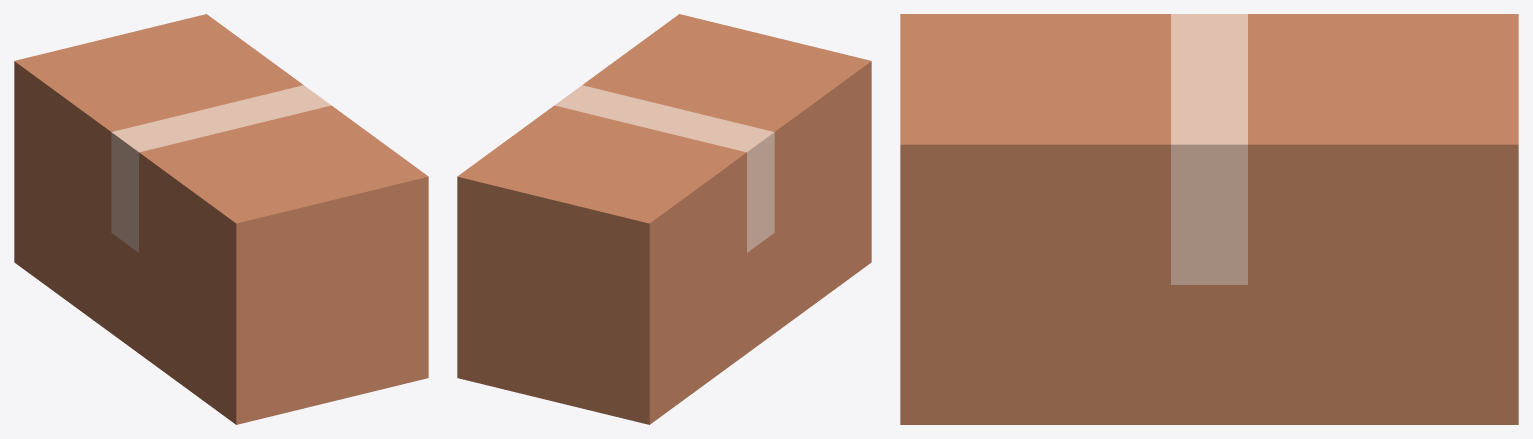
Rendered from BoxWide-transformed.glb.
3 renders of one model, left to right at view 1: azimuth 30°, elevation 25°; view 2: azimuth 150°, elevation 25°; view 3: azimuth 270°, elevation 25°, orthographic. The views are drawn at different scales.
Visible parts, largest first — view 1: box-wide; view 2: box-wide; view 3: box-wide.
Boxes of the visible parts, x1=… form: box-wide: x1=14, y1=14, x2=428, y2=424; box-wide: x1=457, y1=14, x2=871, y2=424; box-wide: x1=900, y1=14, x2=1518, y2=424.
Bounding box in the file's own units: 0.5 × 0.5 × 1.
